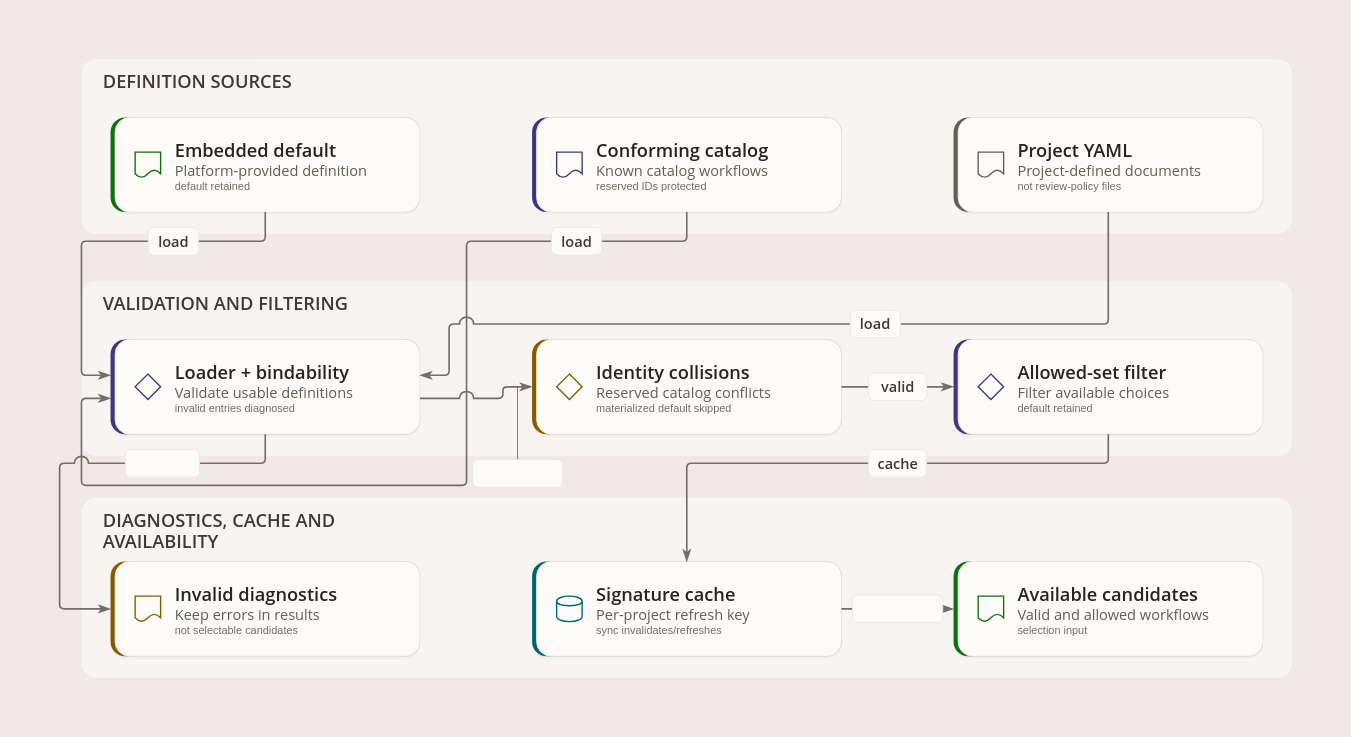
The diagram is 1351 pixels wide and 737 high, and some of its shapes have lost their labels. The shapes that lost their labels are listed below. From the top down, each one's centre as x and y in pixels, then its label:
[162,463]: invalid
[517,473]: check IDs
[897,608]: available
